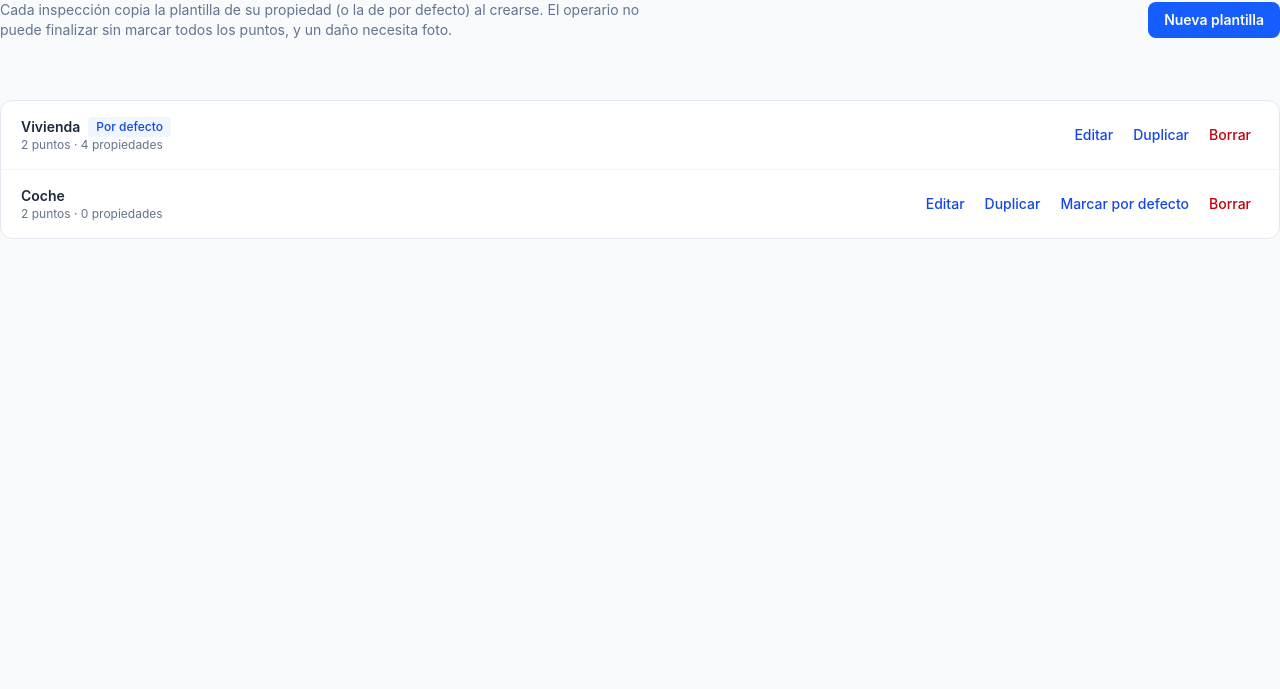
PlantillasPanel › crea una desde un modelo
Click the button "Nueva plantilla" at (1214, 20), box [1148,2,1279,38]
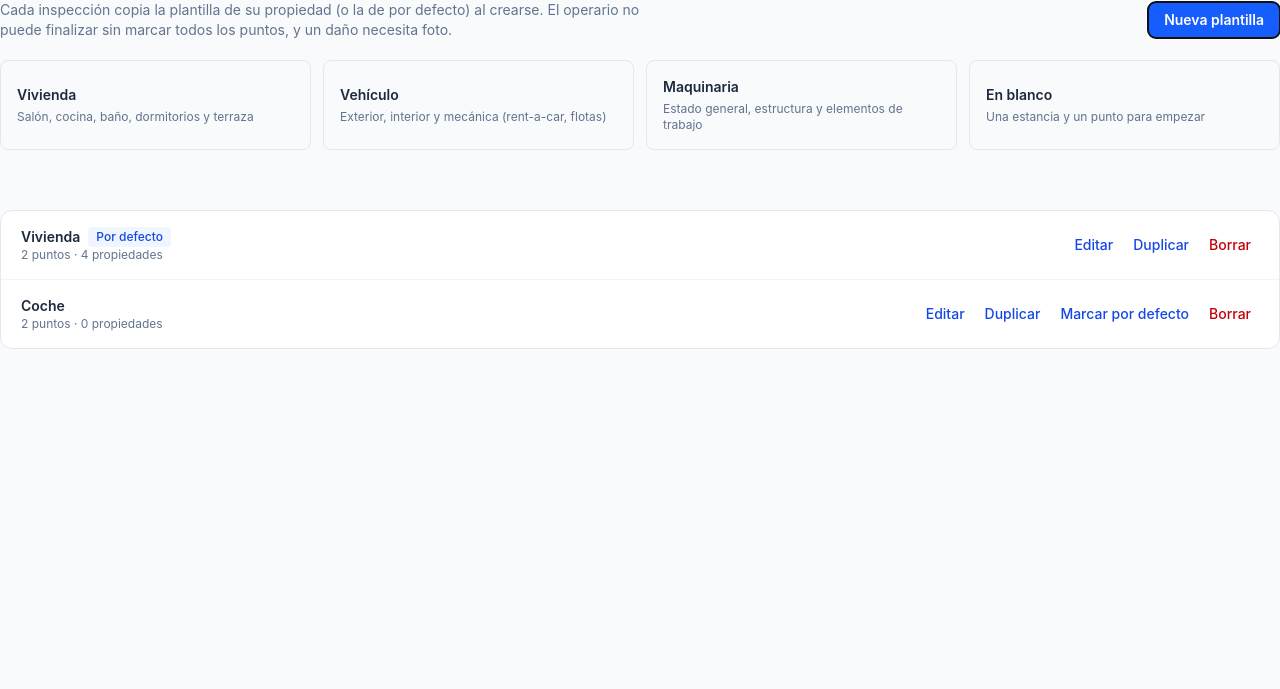
Click the button "Vehículo Exterior, interior y mecánica (rent-a-car, flotas)" at (369, 94), box [323,60,634,150]
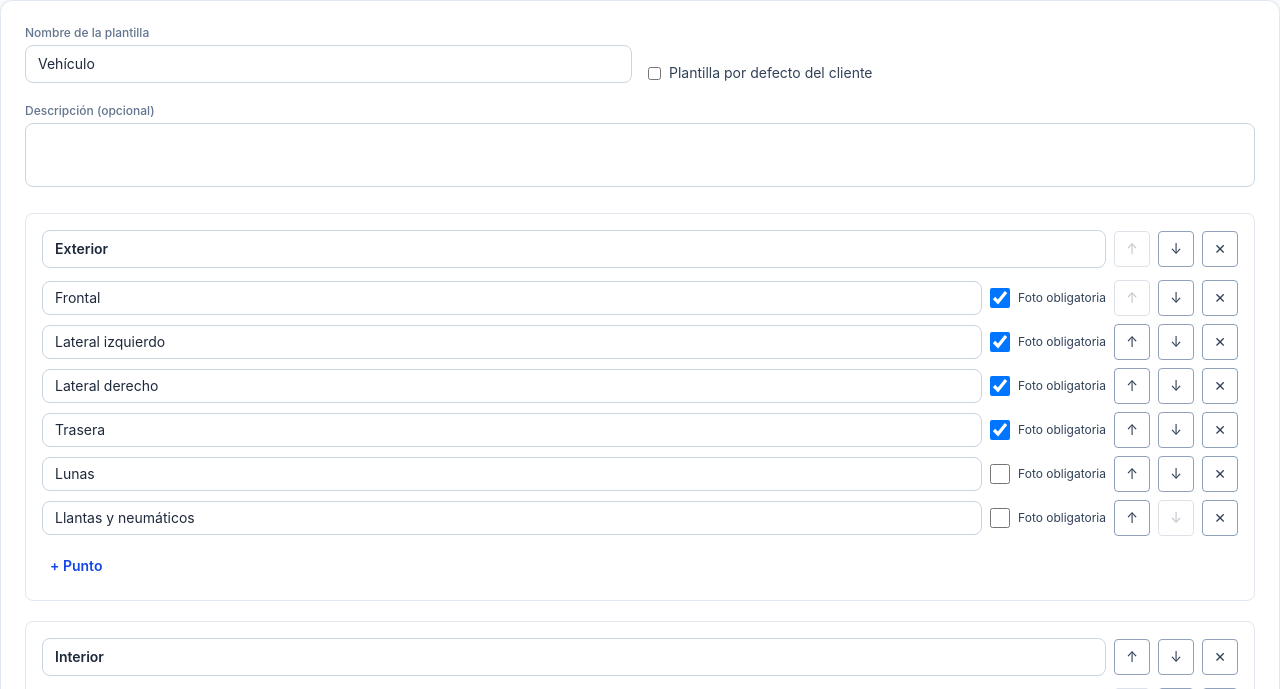
Result: the field labelled "Nombre de la plantilla" holds "Vehículo" at [25,45,632,83]
Result: the field named "Nombre de la estancia 1" holds "Exterior" at [42,230,1106,268]
